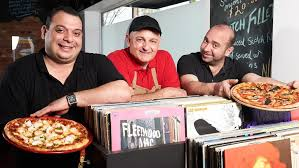pizza: (7, 118, 91, 152), (232, 83, 299, 111)
